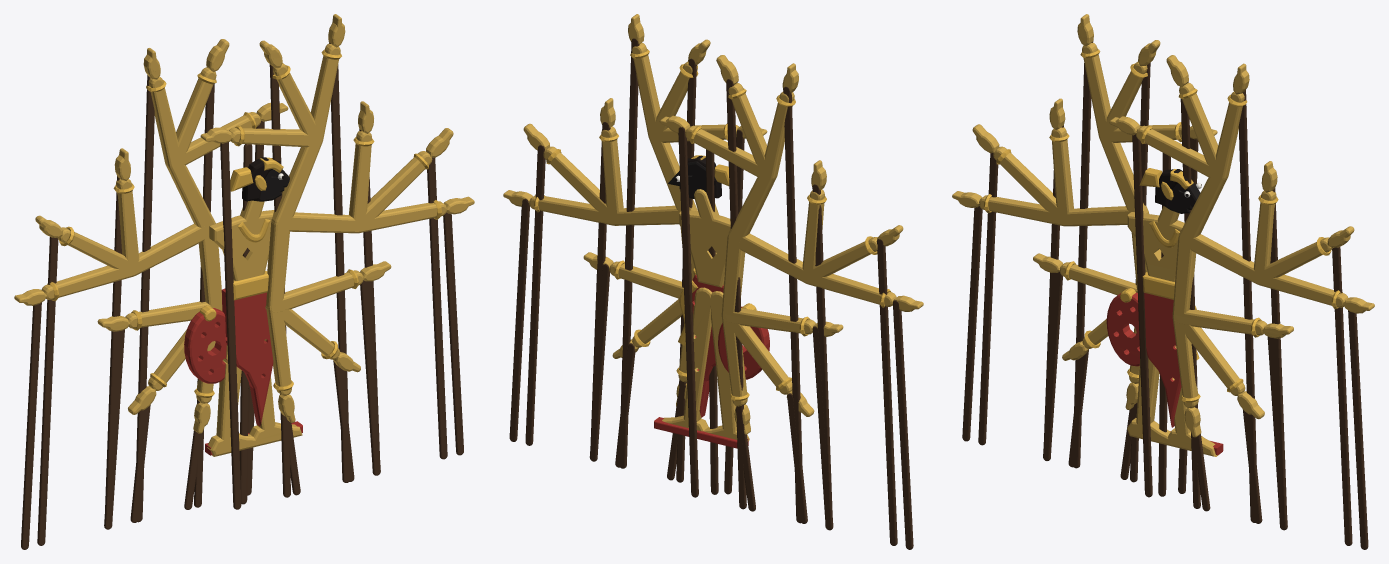
Rendered from arjuna.glb.
3 renders of one model, left to right at view 1: azimuth 30°, elevation 25°; view 2: azimuth 150°, elevation 25°; view 3: azimuth 330°, elevation 25°, orthographic. The views are drawn at different scales.
Visible parts, largest first — view 1: body, front_20, back_20, back_10, front_10, front_22, front_11, back_11, back_12, front_00, front_02, back_21 (+8 smaller); view 2: body, back_20, front_20, back_10, back_22, front_10, front_11, back_21, back_11, back_12, back_00, front_12 (+8 smaller); view 3: body, front_20, back_20, front_10, back_10, front_22, back_11, front_11, front_00, front_12, front_21, back_02 (+8 smaller).
Boxes of the visible parts, <box> form: body: <box>184,144,302,504</box>; front_20: <box>271,14,349,482</box>; back_20: <box>136,48,215,522</box>; back_10: <box>14,223,211,549</box>; front_10: <box>271,196,474,455</box>; front_22: <box>200,125,316,509</box>; front_11: <box>358,128,453,459</box>; back_11: <box>35,215,135,545</box>; back_12: <box>105,148,139,529</box>; front_00: <box>265,217,300,495</box>; front_02: <box>266,261,391,475</box>; back_21: <box>166,39,229,507</box>; body: <box>654,149,769,494</box>; back_20: <box>728,63,802,523</box>; front_20: <box>620,14,697,468</box>; back_10: <box>727,233,923,549</box>; back_22: <box>659,115,776,497</box>; front_10: <box>503,190,697,441</box>; front_11: <box>523,123,609,445</box>; back_21: <box>716,55,774,509</box>; back_11: <box>806,225,903,545</box>; back_12: <box>802,160,832,529</box>; back_00: <box>721,234,755,511</box>; front_12: <box>590,98,623,461</box>; body: <box>1106,153,1223,496</box>; front_20: <box>1179,63,1256,522</box>; back_20: <box>1073,14,1148,468</box>; front_10: <box>1184,234,1374,549</box>; back_10: <box>952,191,1148,441</box>; front_22: <box>1109,116,1224,497</box>; back_11: <box>972,124,1060,445</box>; front_11: <box>1257,226,1354,545</box>; front_00: <box>1172,234,1210,511</box>; front_12: <box>1253,161,1286,530</box>; front_21: <box>1166,55,1227,508</box>; back_02: <box>1033,253,1137,460</box>.
Size of the model in its own units: 1.35 by 1.37 by 0.1187.
